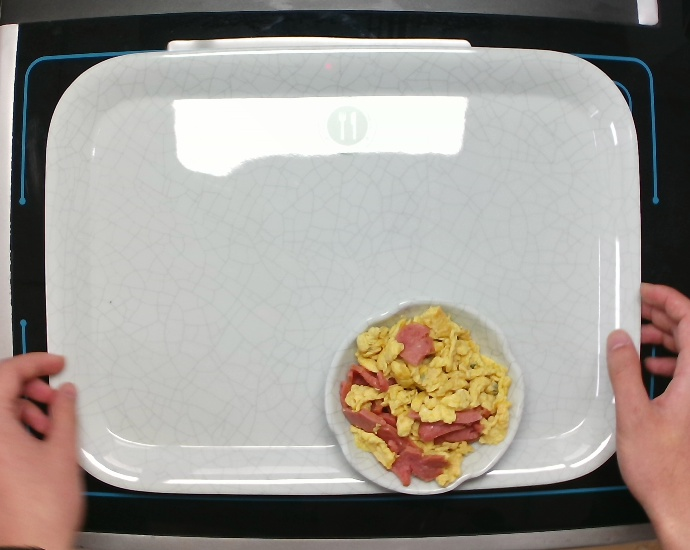JYsf-Ao_Yuan_Wan: (324, 300, 527, 499)
